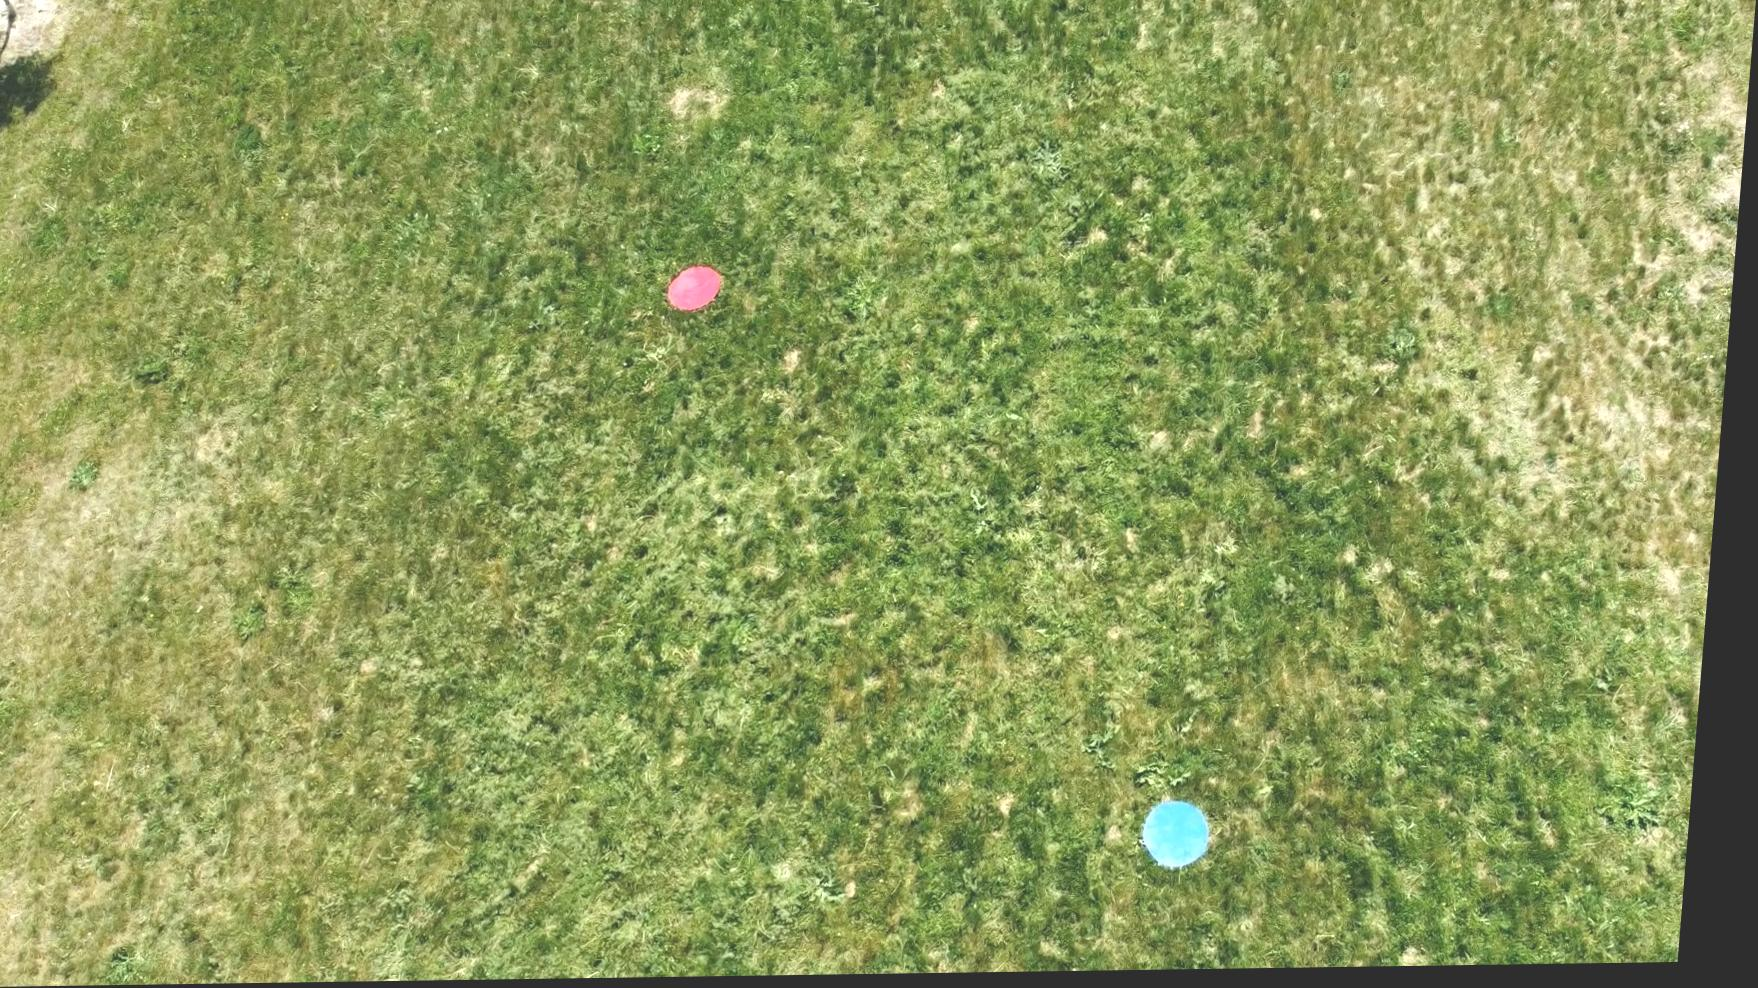Blue: (1151, 800, 1229, 874)
Red: (666, 263, 729, 316)
